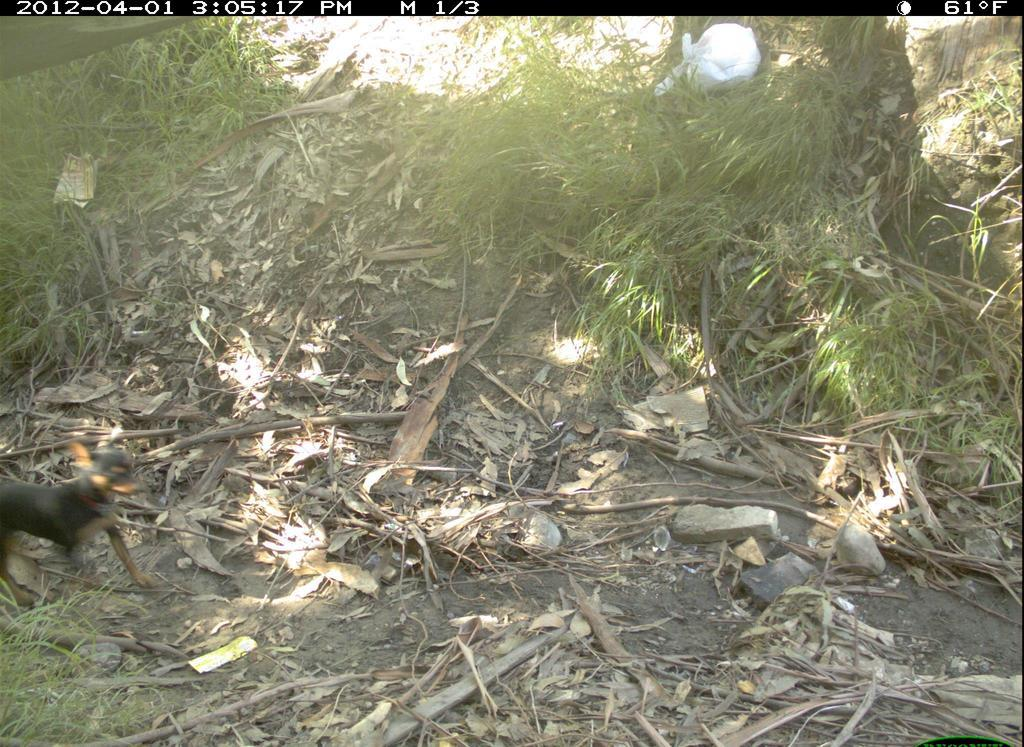dog: (1, 428, 153, 617)
